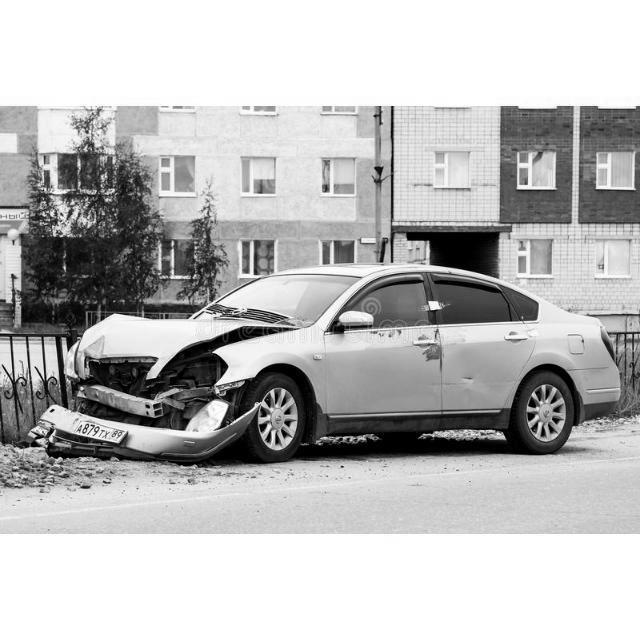bonnet-dent: (62, 309, 222, 367)
doorouter-dent: (329, 329, 445, 417), (442, 329, 530, 410)
fender-dent: (219, 332, 325, 398)
front-bumper-dent: (26, 393, 260, 461)
